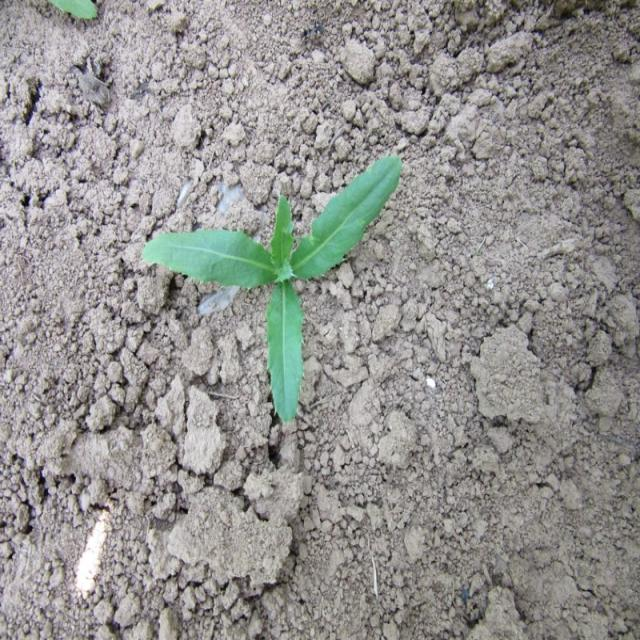field_thistle: (102, 142, 418, 429)
